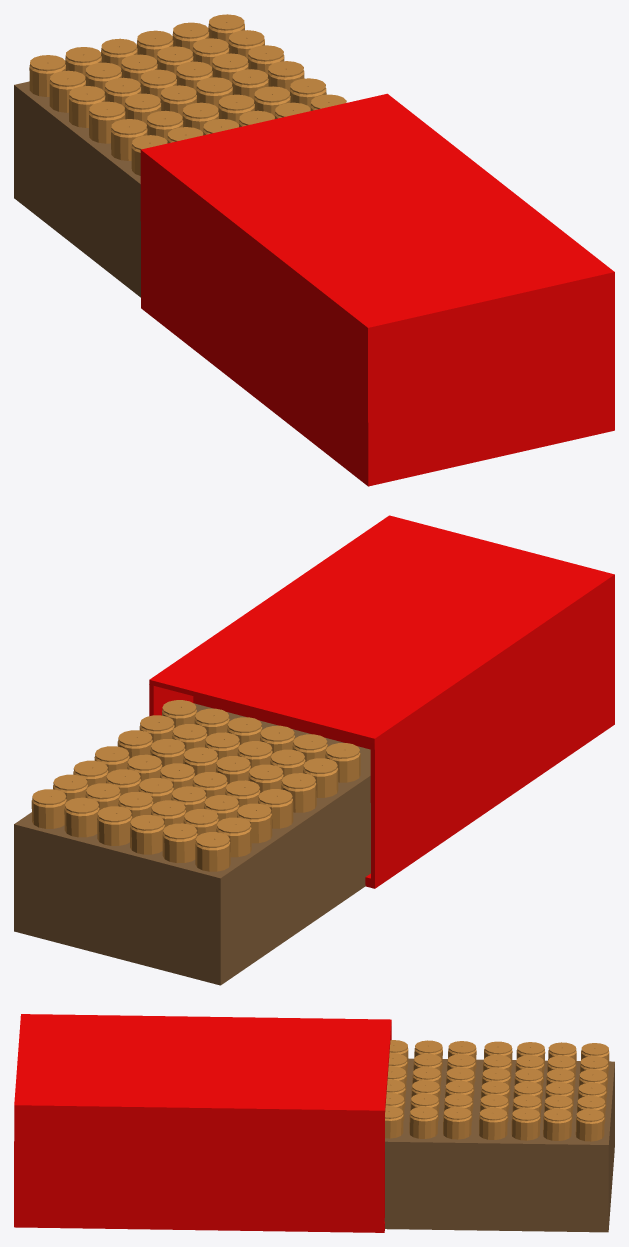
File: 9mmbox.glb
3 renders of one model, top to bottom at view 1: azimuth 30°, elevation 25°; view 2: azimuth 150°, elevation 25°; view 3: azimuth 270°, elevation 25°, orthographic. The views are drawn at different scales.
Visible parts, largest first — view 1: 9mmBox; view 2: 9mmBox; view 3: 9mmBox.
Boxes of the visible parts, bbox=[...] form: 9mmBox: bbox=[14, 14, 614, 486]; 9mmBox: bbox=[14, 515, 614, 985]; 9mmBox: bbox=[14, 1014, 614, 1232].
Size of the model in its own units: 0.1581 by 0.0944 by 0.4176.
